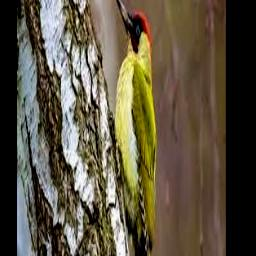Woodpecker: (108, 0, 157, 256)
